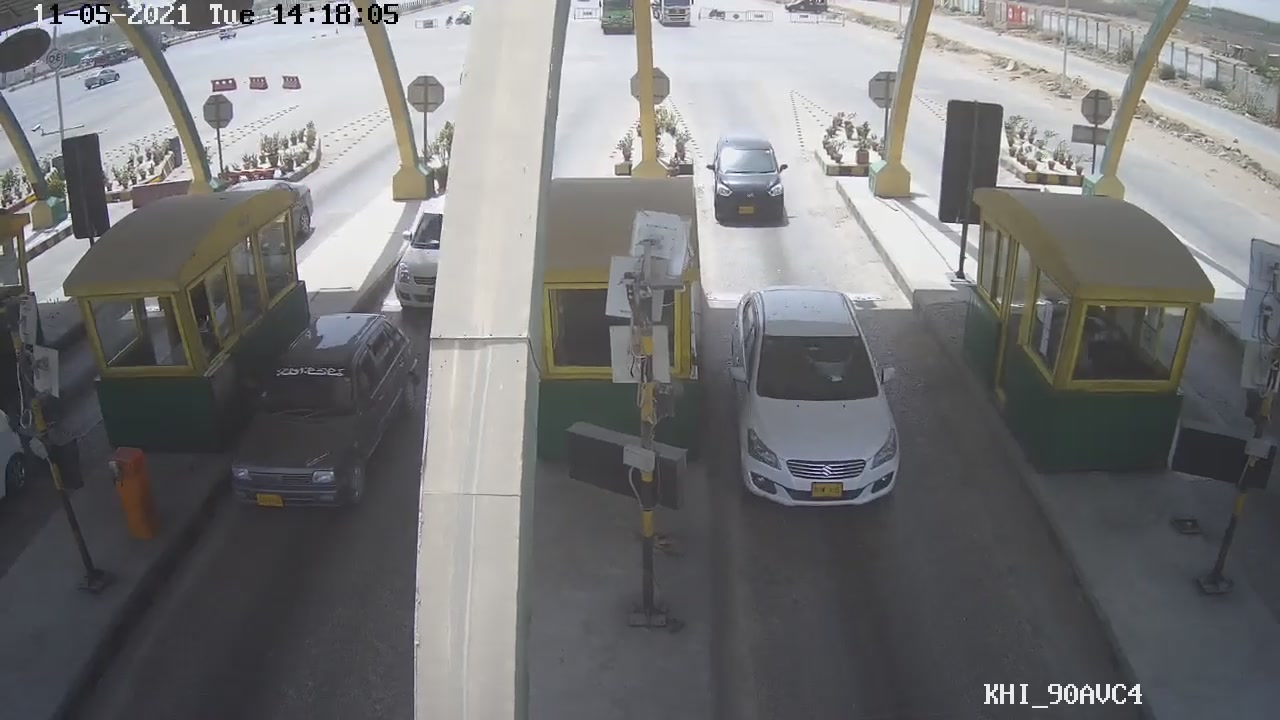F1: (722, 277, 906, 512)
